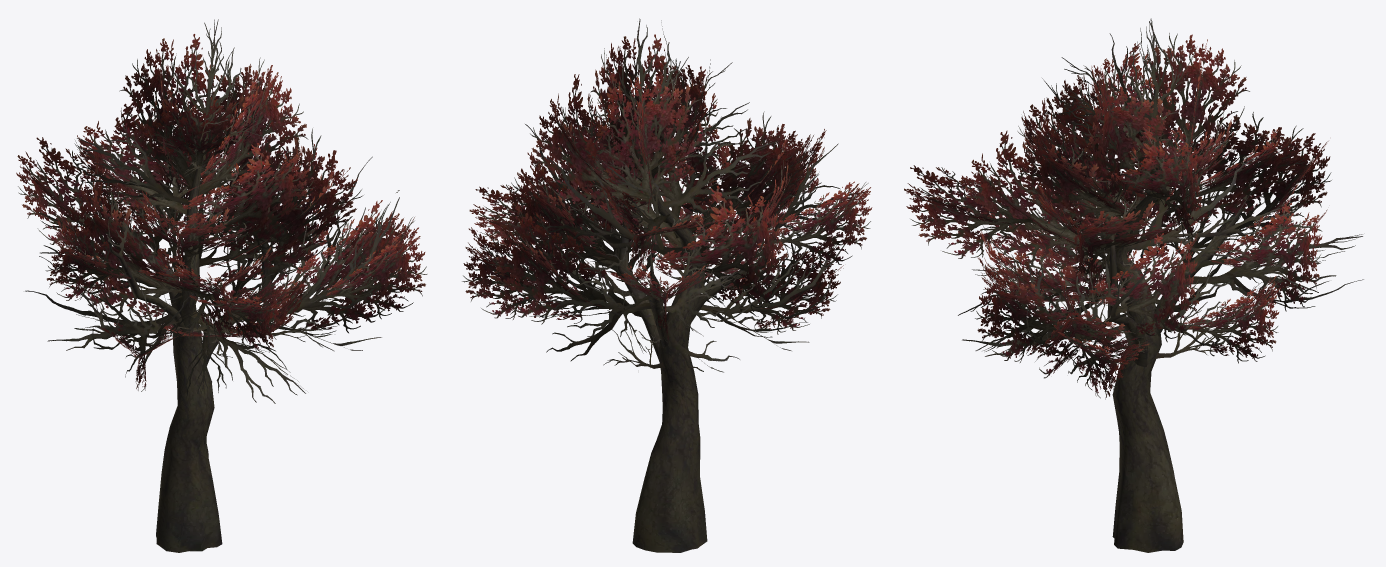
The picture shows the model from 3 angles, left to right: view 1: azimuth 30°, elevation 25°; view 2: azimuth 150°, elevation 25°; view 3: azimuth 270°, elevation 25°; orthographic projection. The views are drawn at different scales.
Bounding box in the file's own units: 96.02 × 123 × 96.57.
Materials: 2 (2 with a texture image).
